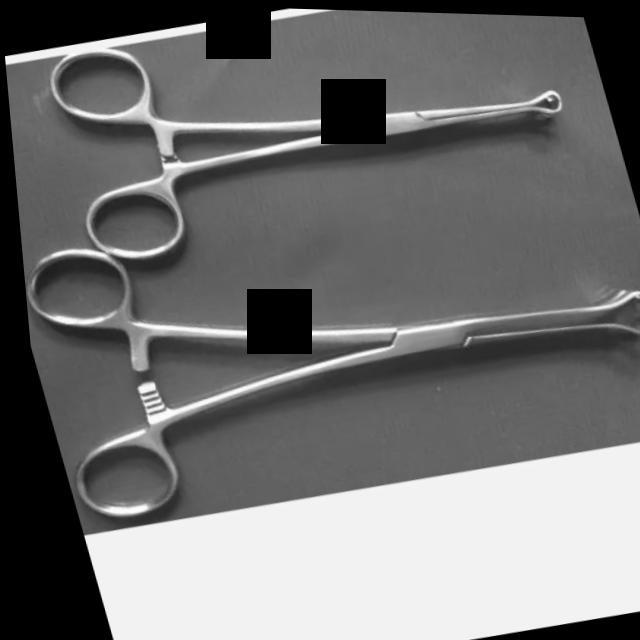Babcock Forceps: (10, 136, 640, 541), (31, 1, 592, 280)
